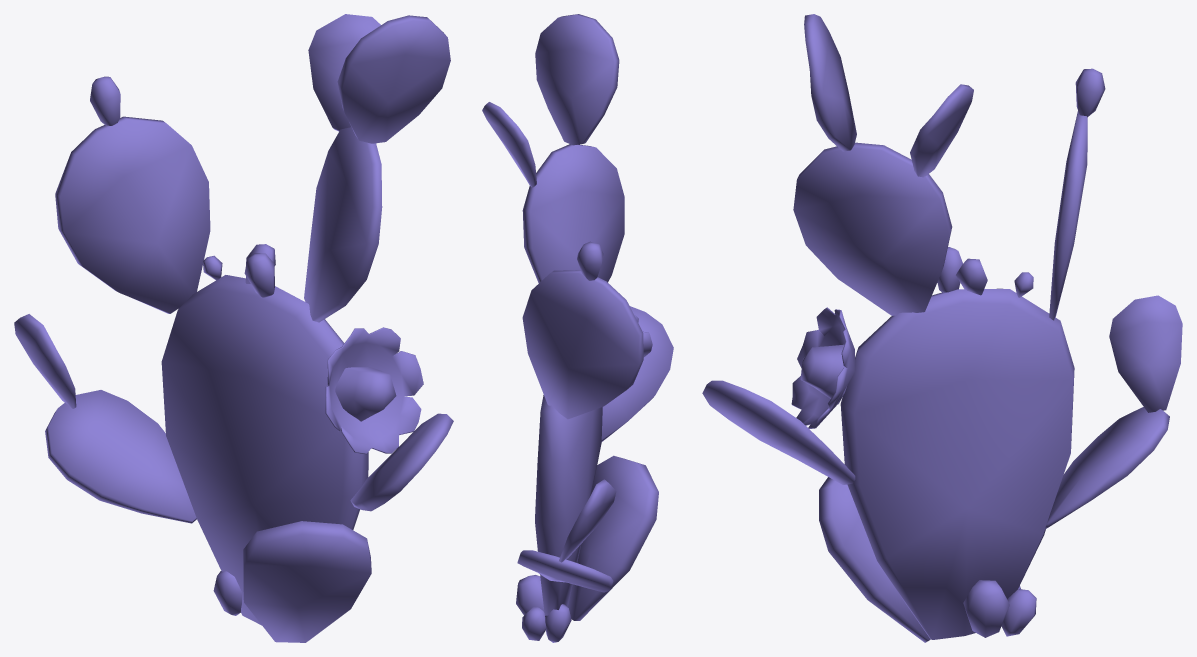
Rendered from Cactus_Leafy_02.fbx.
3 renders of one model, left to right at view 1: azimuth 30°, elevation 25°; view 2: azimuth 150°, elevation 25°; view 3: azimuth 270°, elevation 25°, orthographic. The views are drawn at different scales.
Parts seen in each view (by area): view 1: Cactus_Leafy_02; view 2: Cactus_Leafy_02; view 3: Cactus_Leafy_02.
Part boxes in pixels (x1,y1,x2,y2): Cactus_Leafy_02: (14, 14, 453, 642); Cactus_Leafy_02: (482, 14, 673, 642); Cactus_Leafy_02: (702, 14, 1182, 642).
Size of the model in its own units: 60.83 by 147 by 99.45.
